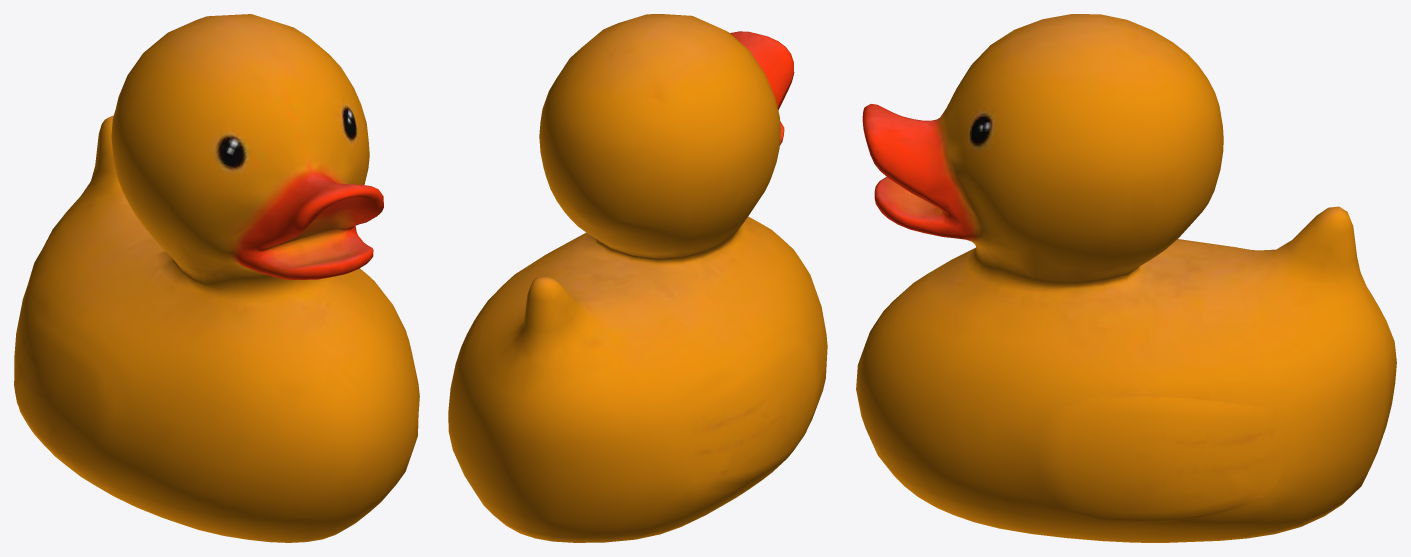
File: rubber_duck_toy.glb
3 renders of one model, left to right at view 1: azimuth 30°, elevation 25°; view 2: azimuth 150°, elevation 25°; view 3: azimuth 270°, elevation 25°, orthographic. The views are drawn at different scales.
Visible parts, largest first — view 1: rubber_duck_toy; view 2: rubber_duck_toy; view 3: rubber_duck_toy.
Boxes of the visible parts, x1=… form: rubber_duck_toy: x1=14, y1=14, x2=419, y2=542; rubber_duck_toy: x1=448, y1=14, x2=827, y2=542; rubber_duck_toy: x1=856, y1=14, x2=1396, y2=542.
Bounding box in the file's own units: 0.2135 × 0.2855 × 0.3.
Materials: 1 (1 with a texture image).
